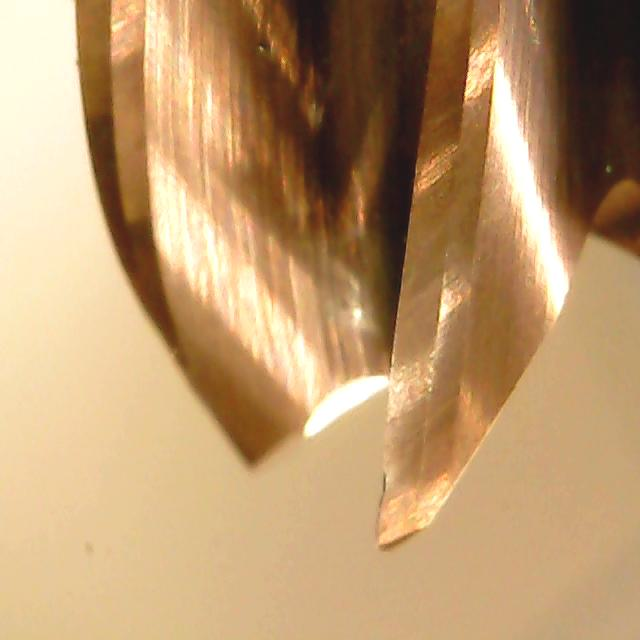Tool-wear-class-1: (361, 375, 476, 555)
